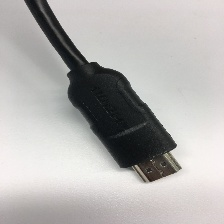hdmi_male: (74, 65, 222, 192)
